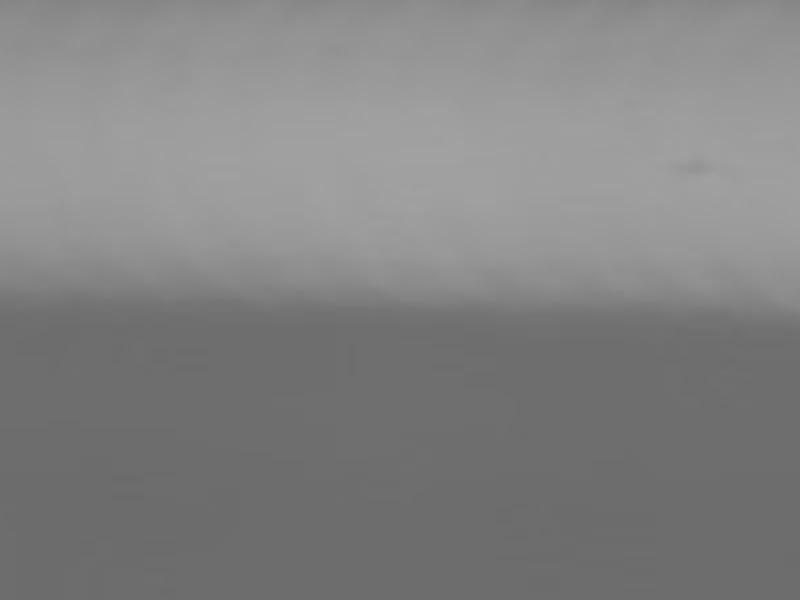defect: (673, 154, 713, 175)
